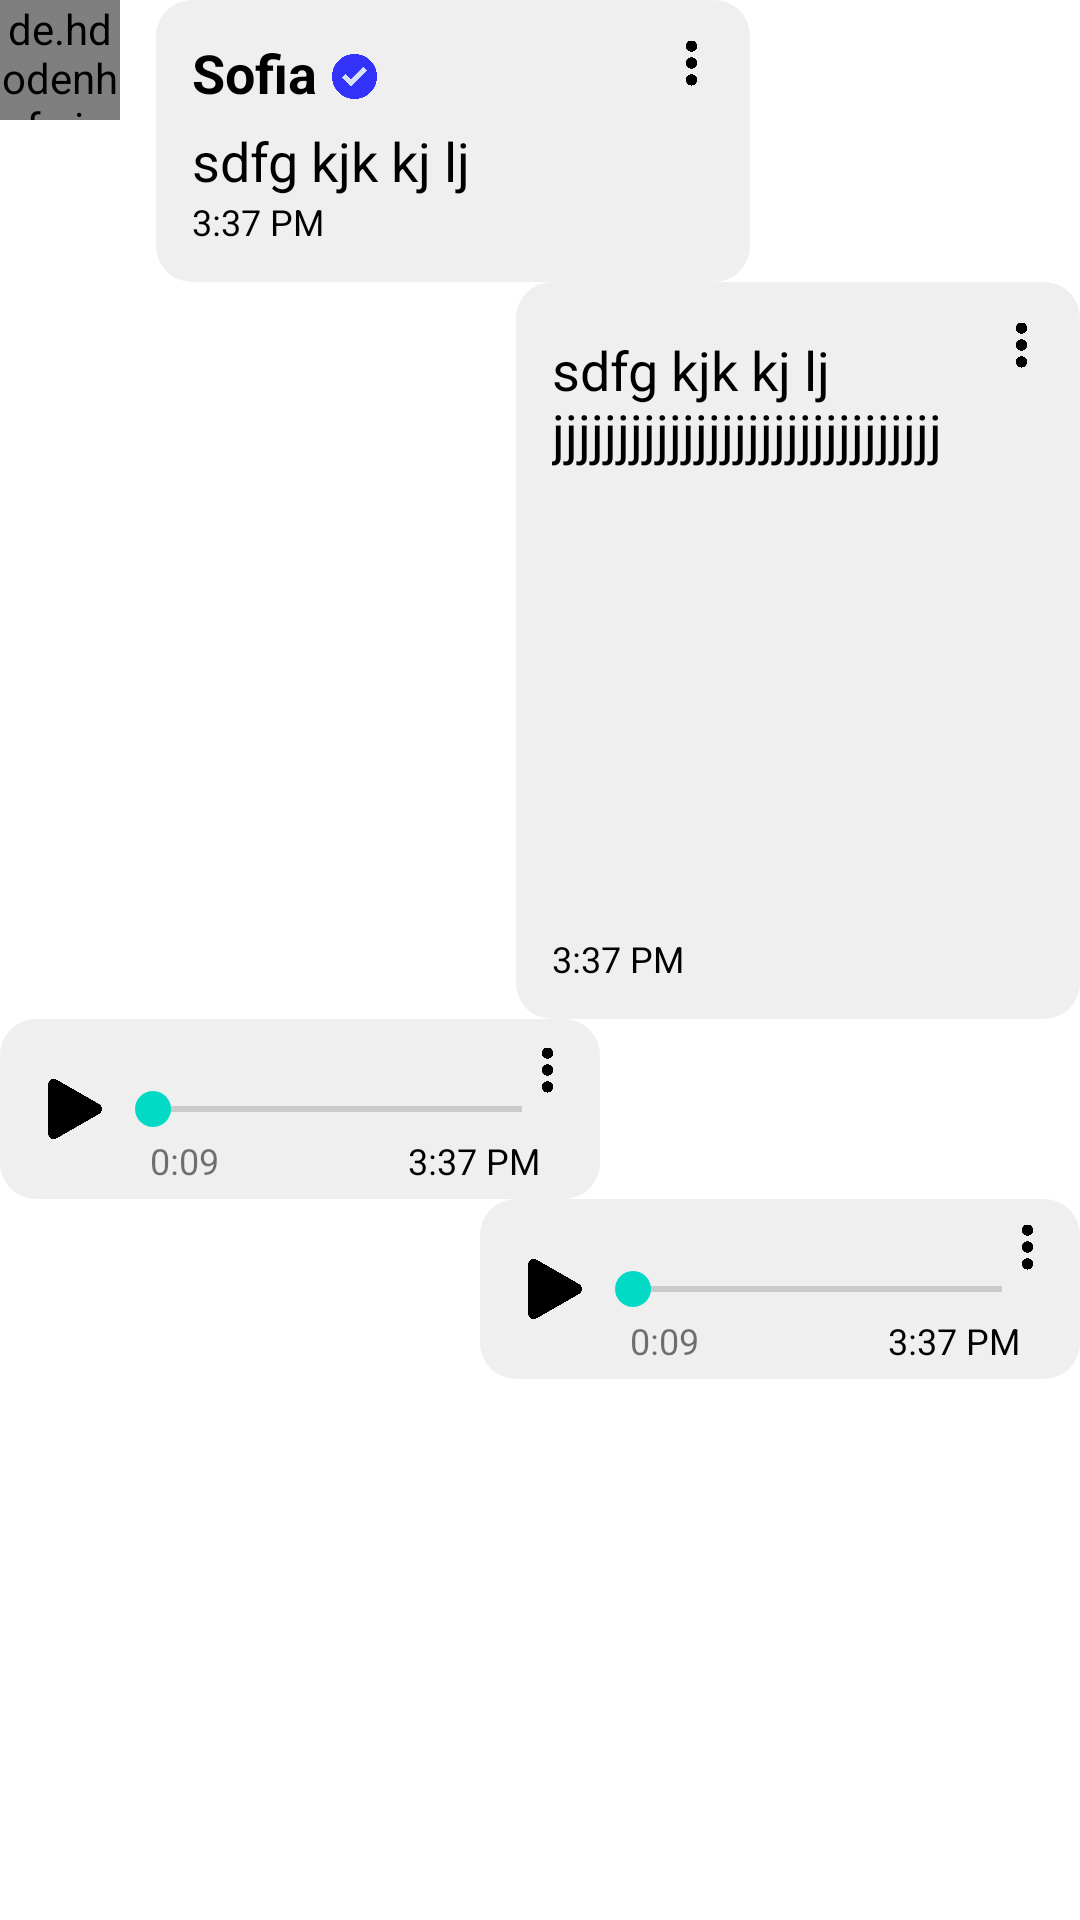

Screen size 1080×1920. Icon name, then its box in pixels as detection(x1, y1, x2, y2):
check: detection(332, 54, 377, 99)
menu: detection(686, 41, 697, 86), detection(1016, 323, 1027, 368), detection(542, 1048, 553, 1093), detection(1022, 1225, 1033, 1270)
play: detection(48, 1079, 102, 1139), detection(528, 1259, 582, 1319)
